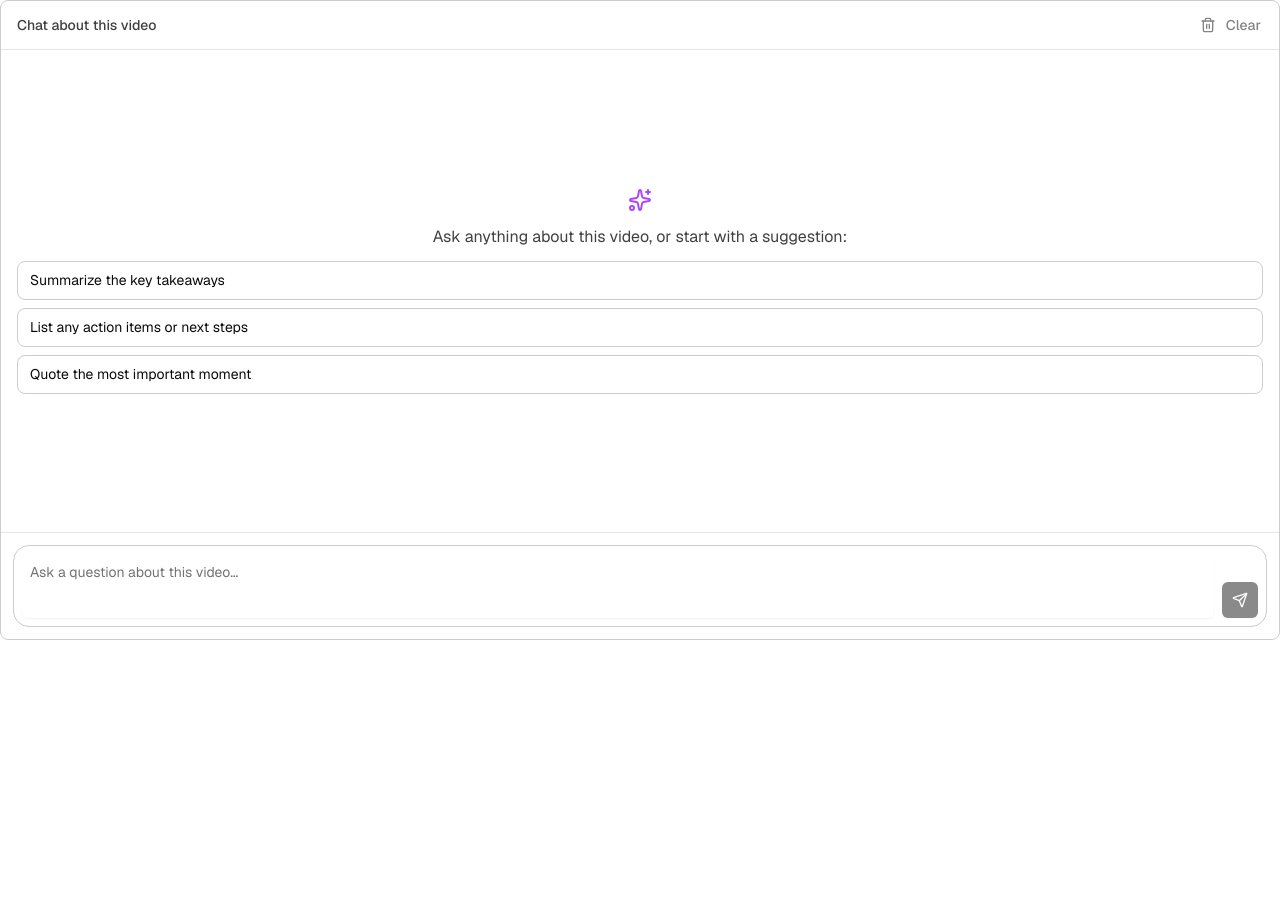
Test: ChatTab › renders ChatCapBanner (anon-blocked) when the stream returns a 402 anon_chat_blocked
The width and height of the screenshot is (1280, 900).
Expected: the text "Ask anything about this video, or start with a suggestion:" is shown, [433,226,847,247]
Step 1. Type "hello" into the text box named "chat message" → (618, 586), box [22,554,1214,618]
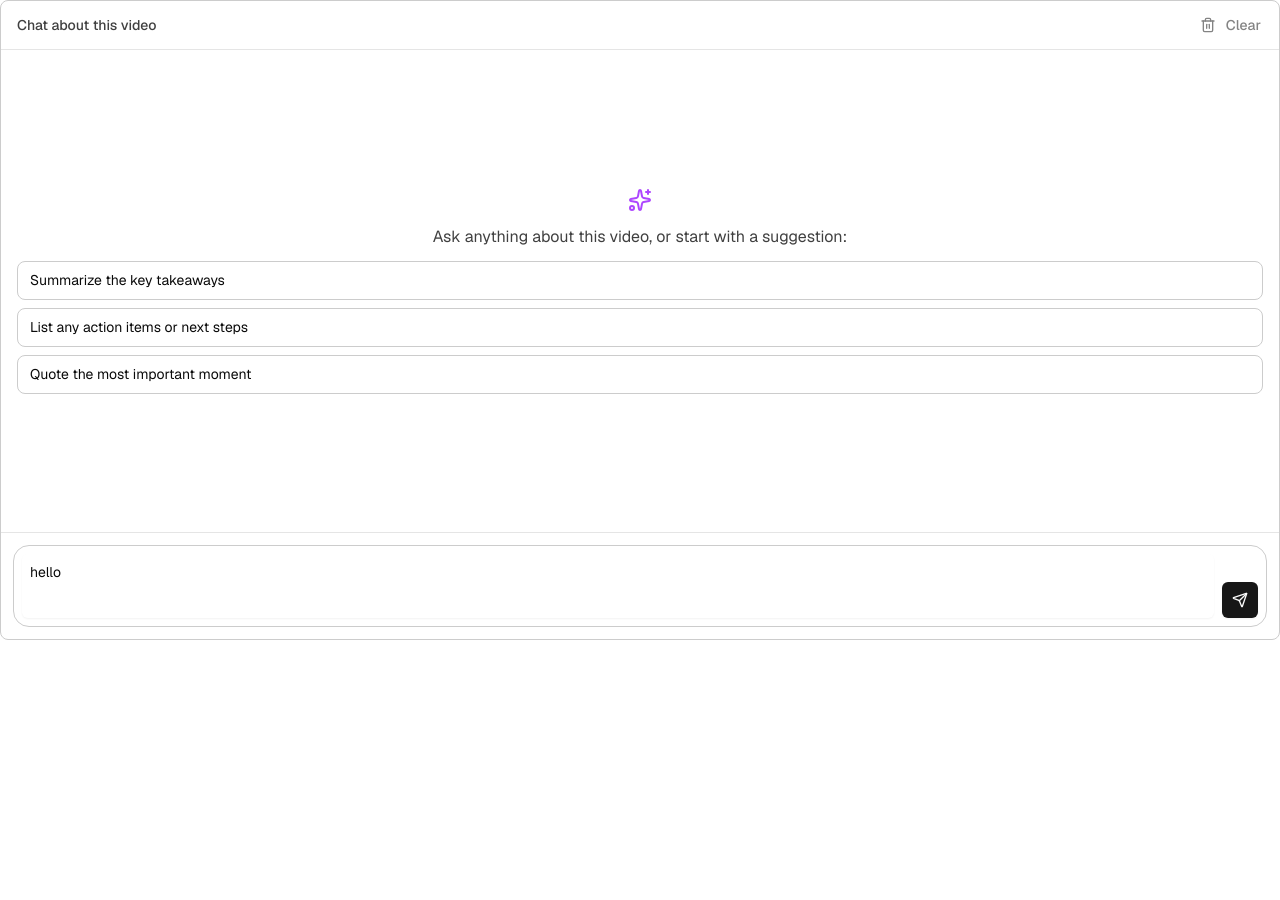
Step 2. Click the button named "send message" → (1240, 600), box [1222,582,1258,618]
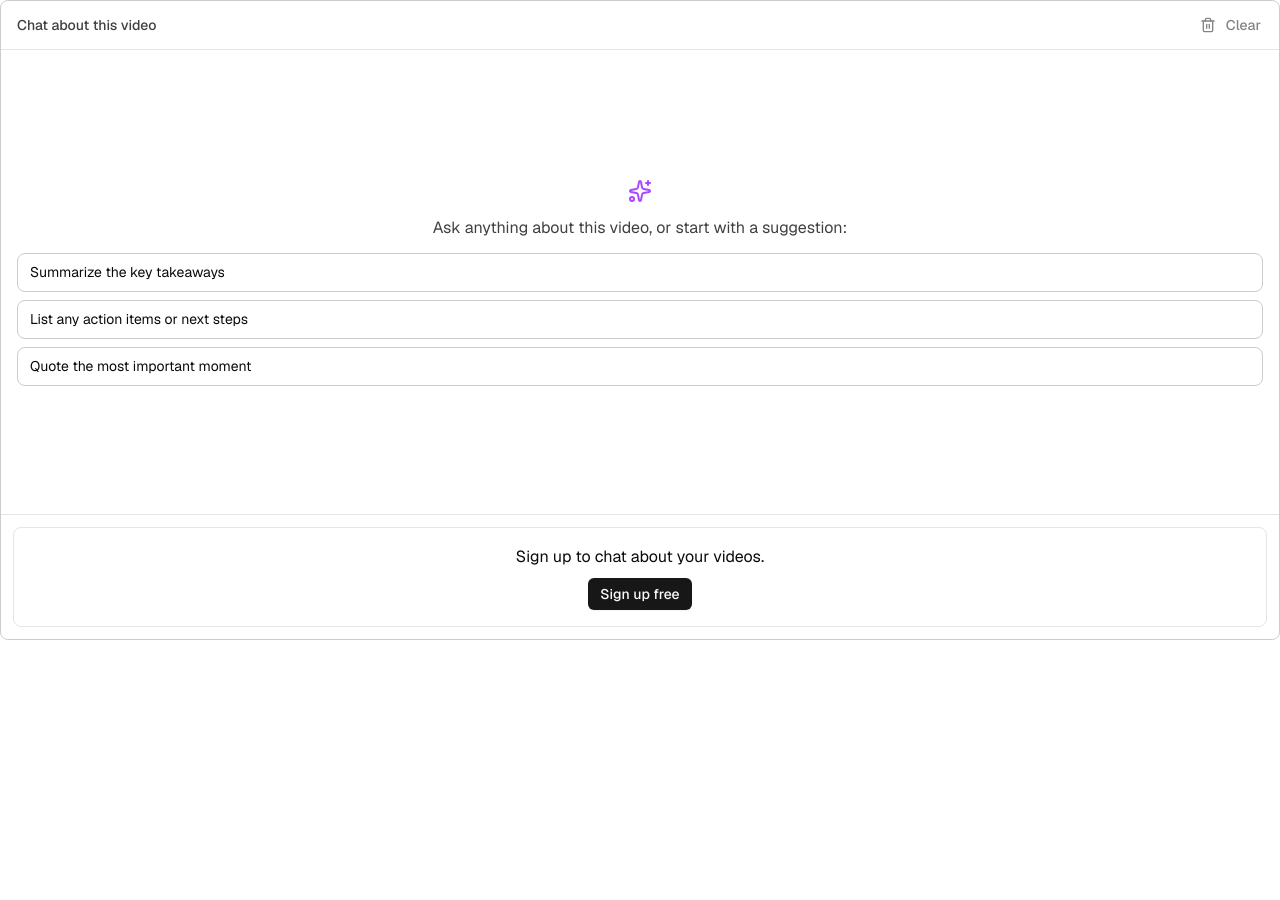
Expected: the text "Sign up to chat about your videos." is shown, [516,546,764,567]
